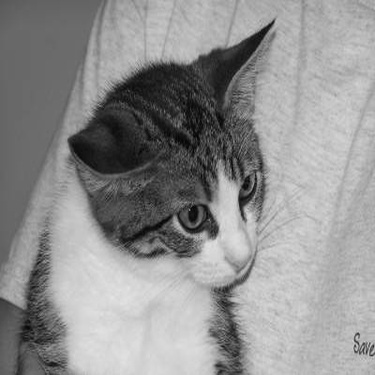cat: (13, 13, 278, 372)
